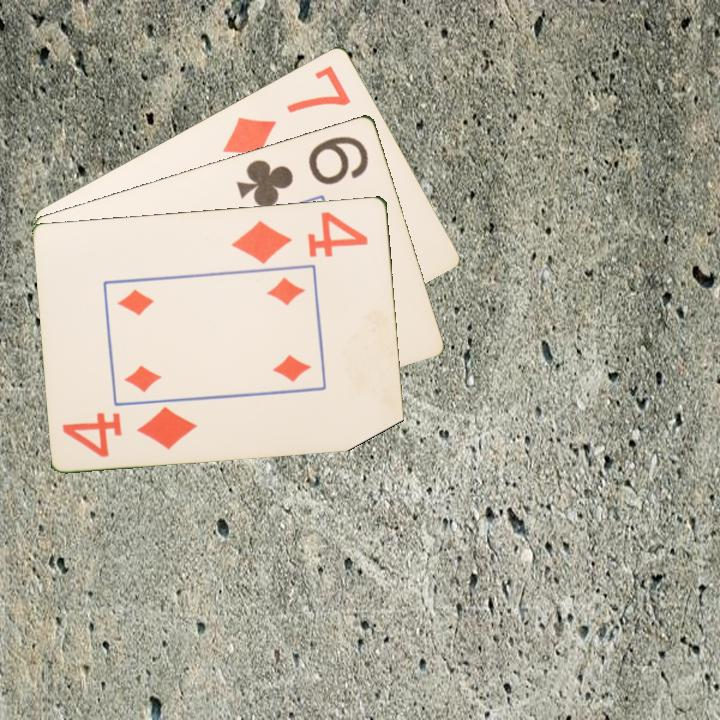4d: (228, 208, 372, 266), (59, 402, 201, 460)
6c: (233, 132, 372, 210)
7d: (219, 61, 354, 159)
